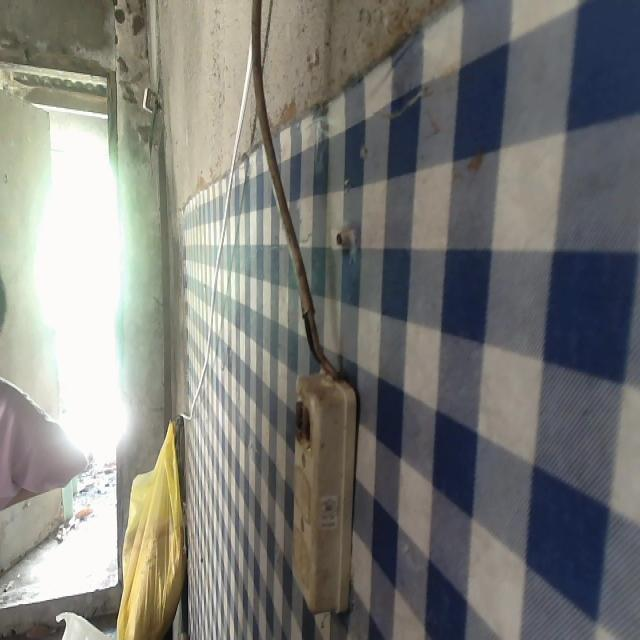-: (290, 399, 319, 445)
